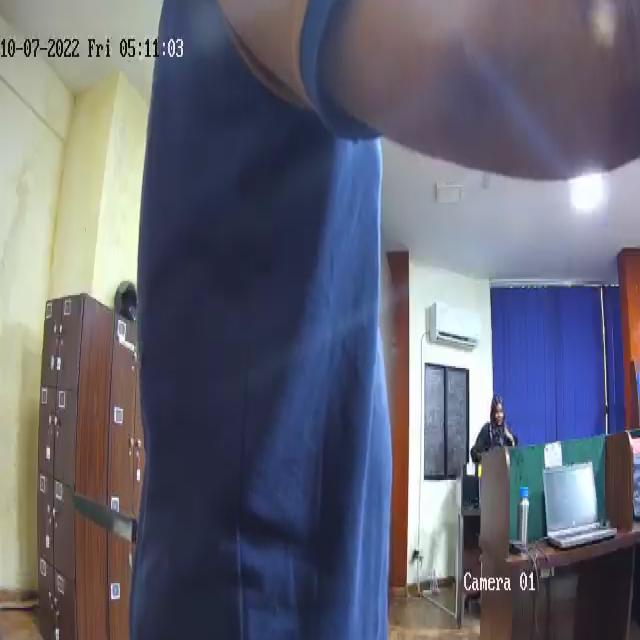Knife: (69, 484, 141, 560)
